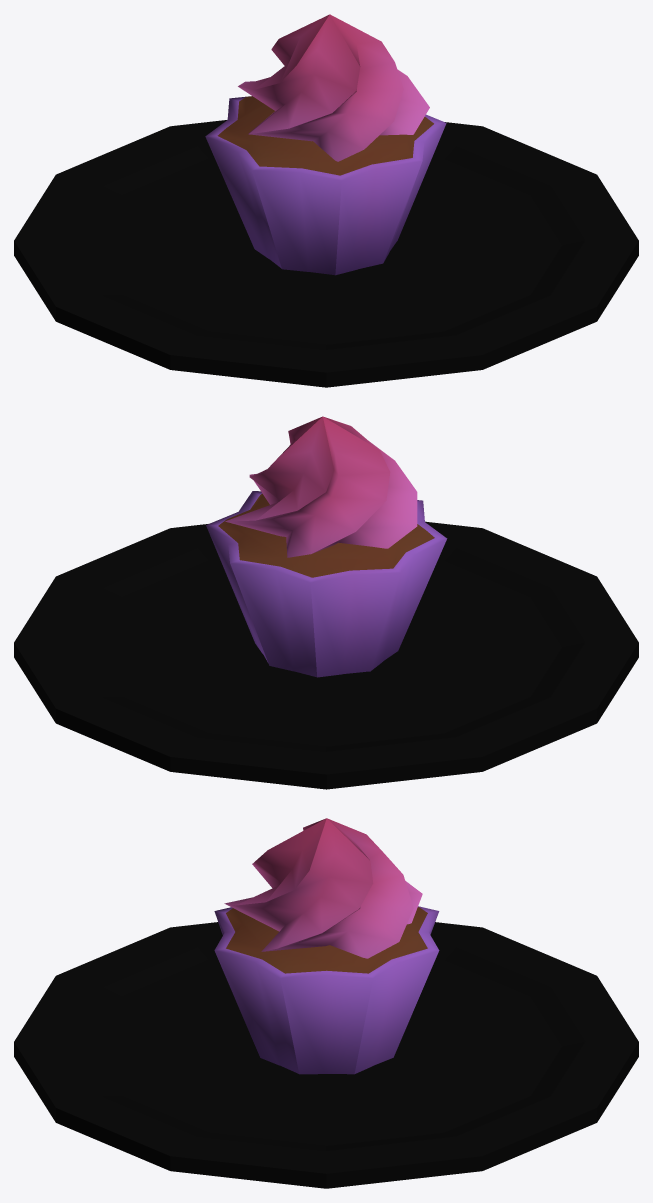
Rendered from Cupcake.fbx.
3 views of the same model, one above another, from view 1: azimuth 30°, elevation 25°; view 2: azimuth 150°, elevation 25°; view 3: azimuth 270°, elevation 25° (orthographic).
Visible parts, largest first — view 1: Dish; view 2: Dish; view 3: Dish.
Boxes of the visible parts, bbox=[...] form: Dish: bbox=[14, 14, 638, 387]; Dish: bbox=[14, 416, 638, 789]; Dish: bbox=[14, 818, 638, 1188].
Bounding box in the file's own units: 47.66 × 20.22 × 47.66.
